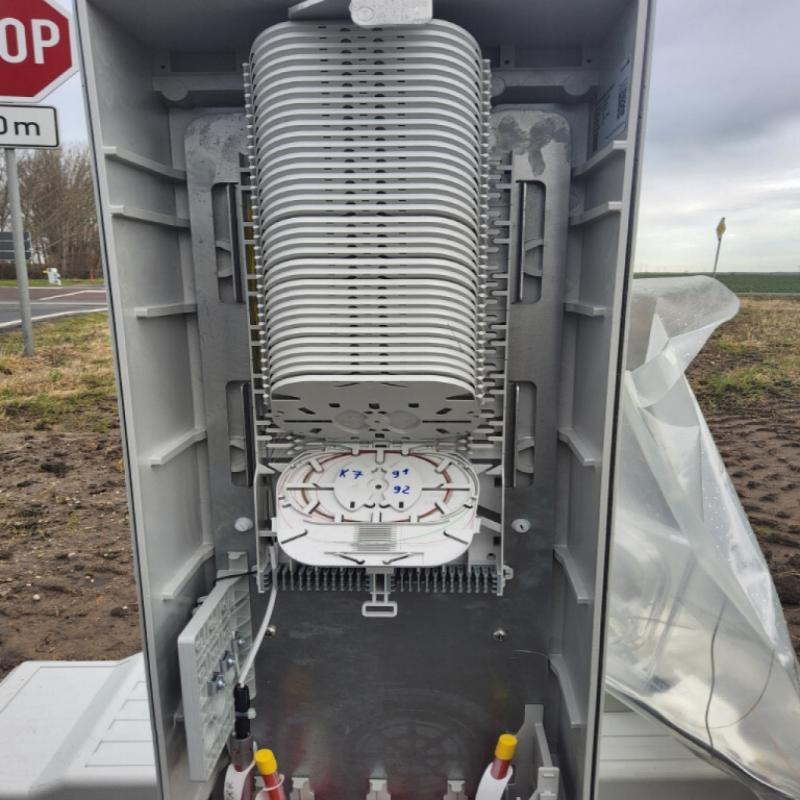NT-Gehause: (73, 0, 633, 793)
Spleiskassetten: (234, 6, 532, 601)
